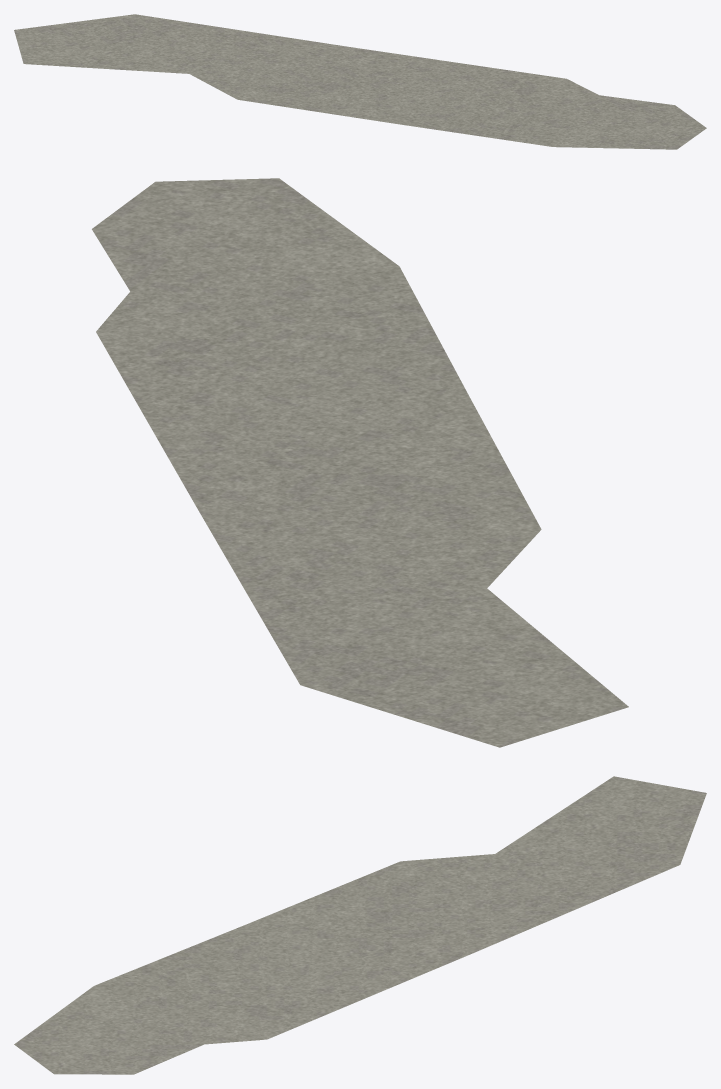
The model's file is path_11.glb.
3 views of the same model, one above another, from view 1: azimuth 30°, elevation 25°; view 2: azimuth 150°, elevation 25°; view 3: azimuth 270°, elevation 25° (orthographic). The views are drawn at different scales.
Visible parts, largest first — view 1: path_11.surface; view 2: path_11.surface; view 3: path_11.surface.
Boxes of the visible parts, x1,y1,x2,y2 form: path_11.surface: (14,14,706,149); path_11.surface: (92,178,628,747); path_11.surface: (14,776,706,1074).
Bounding box in the file's own units: 2.5 × 0.0701 × 2.6.
Materials: 1 (1 with a texture image).
